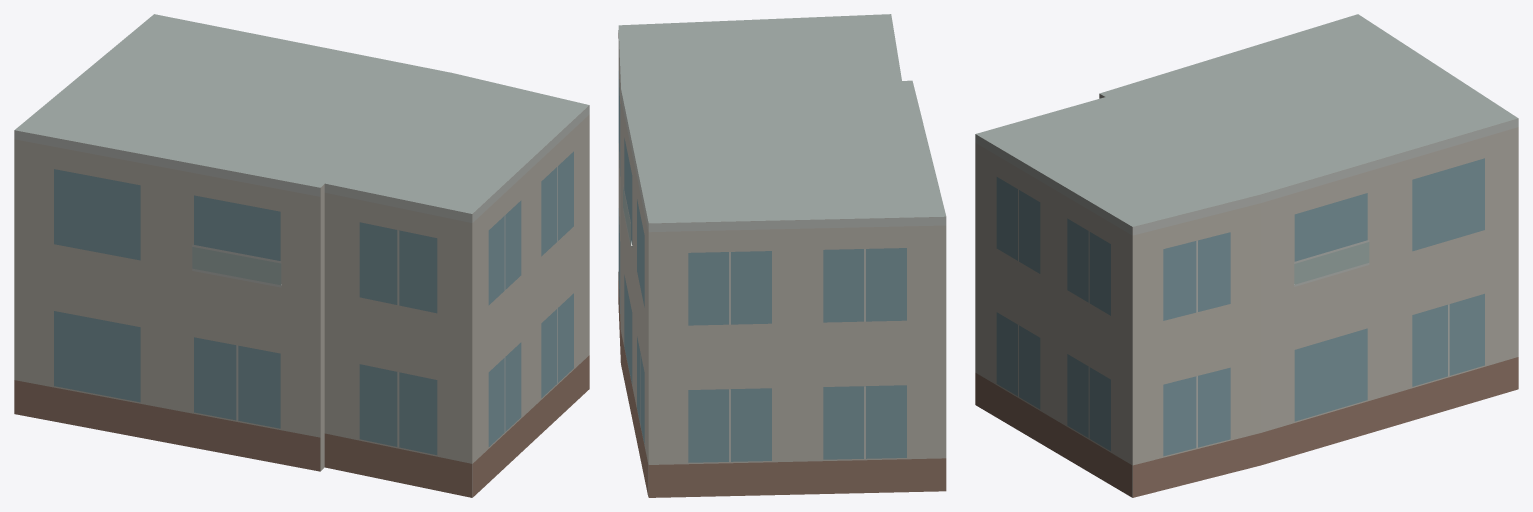
The model's file is survey-upis-32634018.glb.
3 views of the same model, side by side, from view 1: azimuth 30°, elevation 25°; view 2: azimuth 150°, elevation 25°; view 3: azimuth 270°, elevation 25° (orthographic). The views are drawn at different scales.
Parts seen in each view (by area): view 1: survey-upis-32634018.tmp; view 2: survey-upis-32634018.tmp; view 3: survey-upis-32634018.tmp.
Part boxes in pixels (box(x1,y1,x2,y2)): survey-upis-32634018.tmp: box(14, 14, 589, 497); survey-upis-32634018.tmp: box(618, 14, 946, 497); survey-upis-32634018.tmp: box(975, 14, 1518, 497).
Size of the model in its own units: 12.82 by 7.6 by 13.82.
